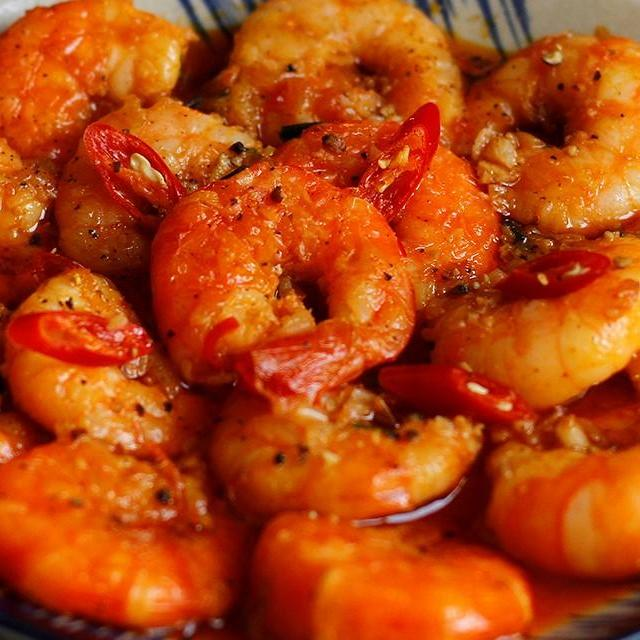tom: (140, 153, 420, 418), (237, 111, 512, 325), (0, 432, 263, 634), (193, 0, 470, 182), (47, 87, 286, 287), (0, 260, 230, 463), (205, 374, 492, 532), (408, 226, 640, 416), (444, 17, 640, 239), (238, 501, 546, 640), (0, 0, 206, 172), (472, 378, 640, 584), (0, 99, 68, 314), (0, 271, 55, 504)
